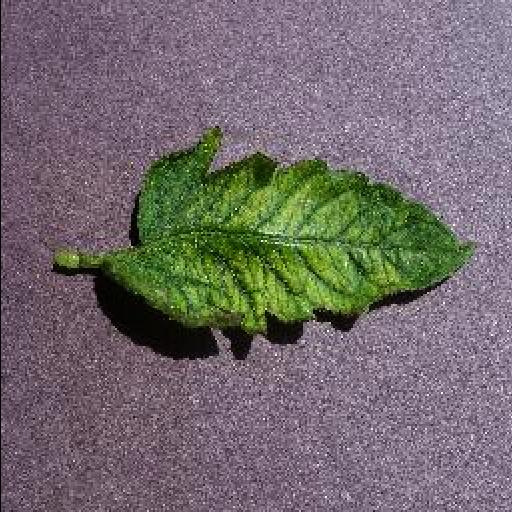disease_tomato: (111, 128, 477, 338)
